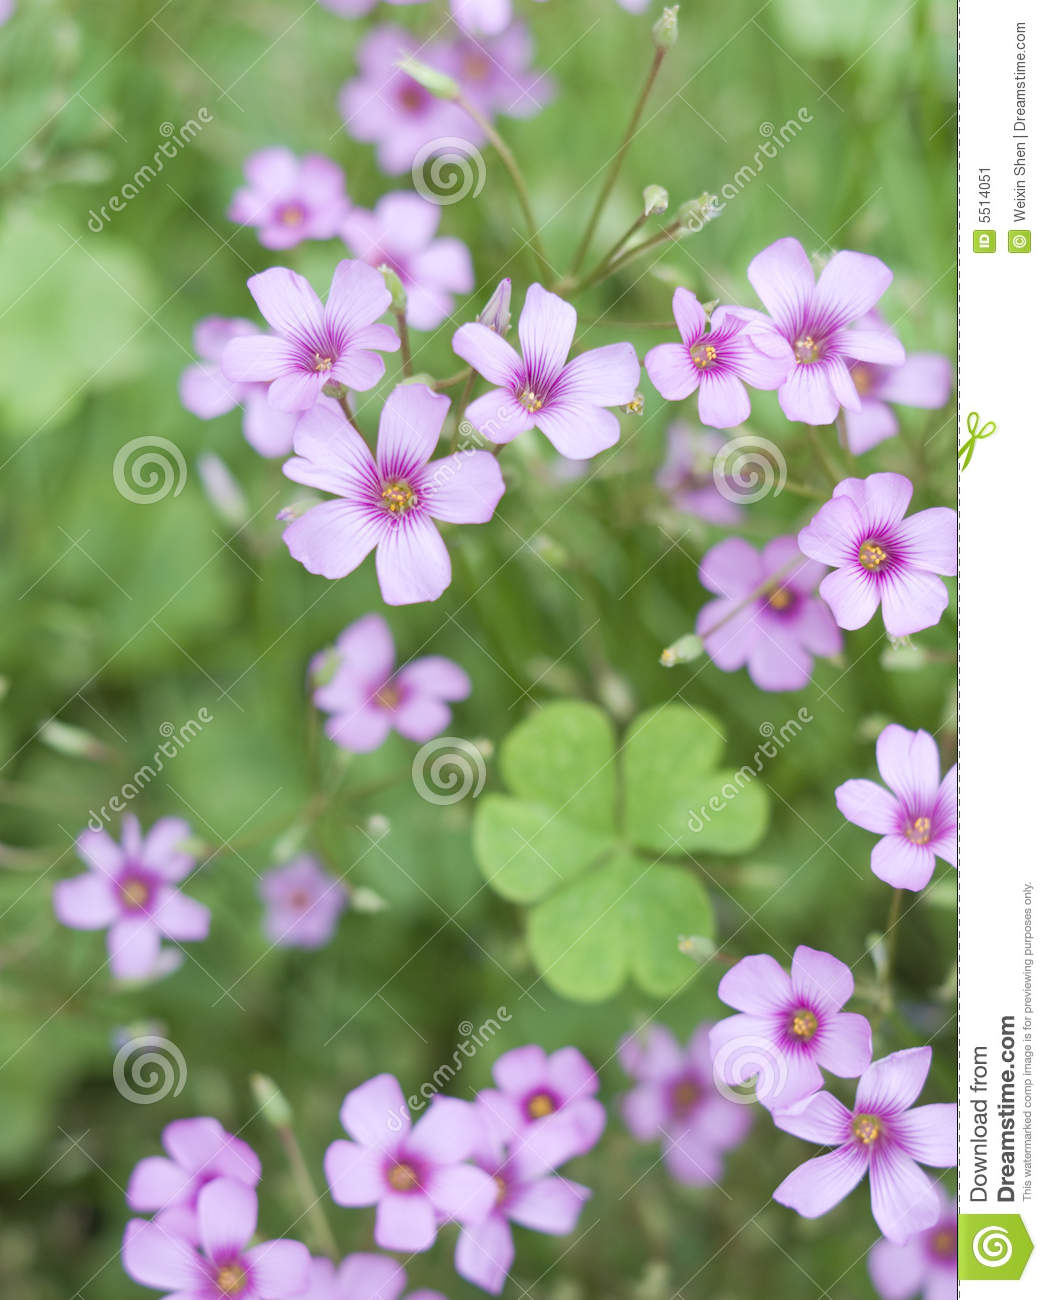oxalis: (489, 689, 772, 987)
